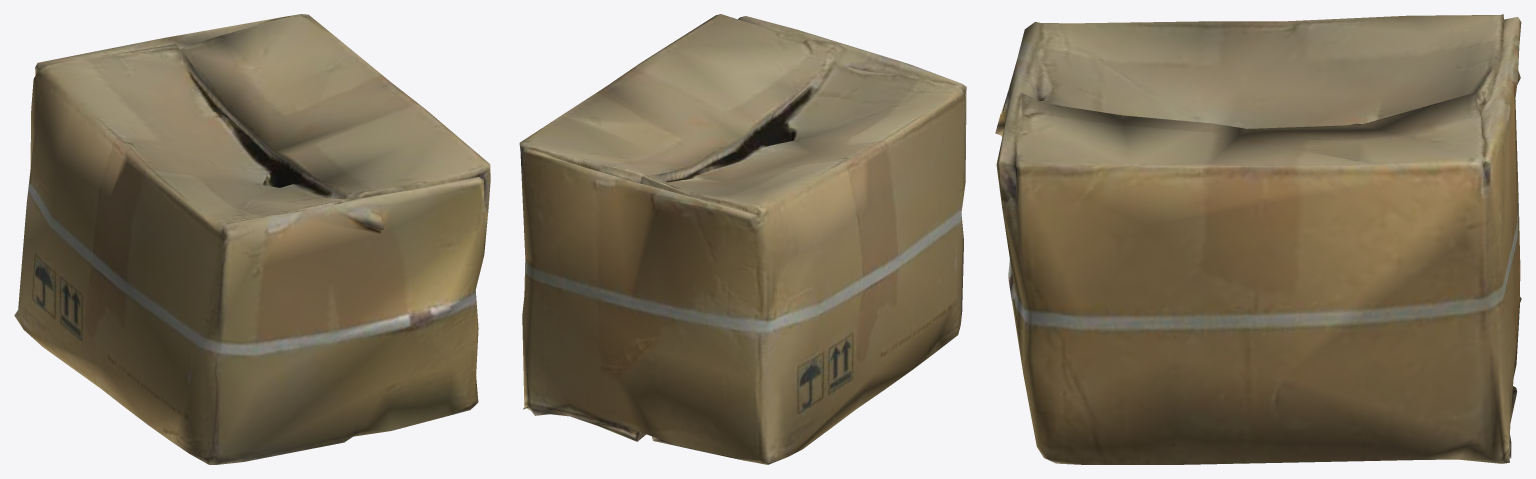
File: cardboard_box_01.glb
3 renders of one model, left to right at view 1: azimuth 30°, elevation 25°; view 2: azimuth 150°, elevation 25°; view 3: azimuth 270°, elevation 25°, orthographic. The views are drawn at different scales.
Visible parts, largest first — view 1: cardboard_box_01; view 2: cardboard_box_01; view 3: cardboard_box_01.
Boxes of the visible parts, x1,y1,x2,y2 form: cardboard_box_01: (14,14,490,464); cardboard_box_01: (519,14,966,464); cardboard_box_01: (995,14,1521,464).
Size of the model in its own units: 0.3833 by 0.3403 by 0.5152.
Materials: 1 (1 with a texture image).
